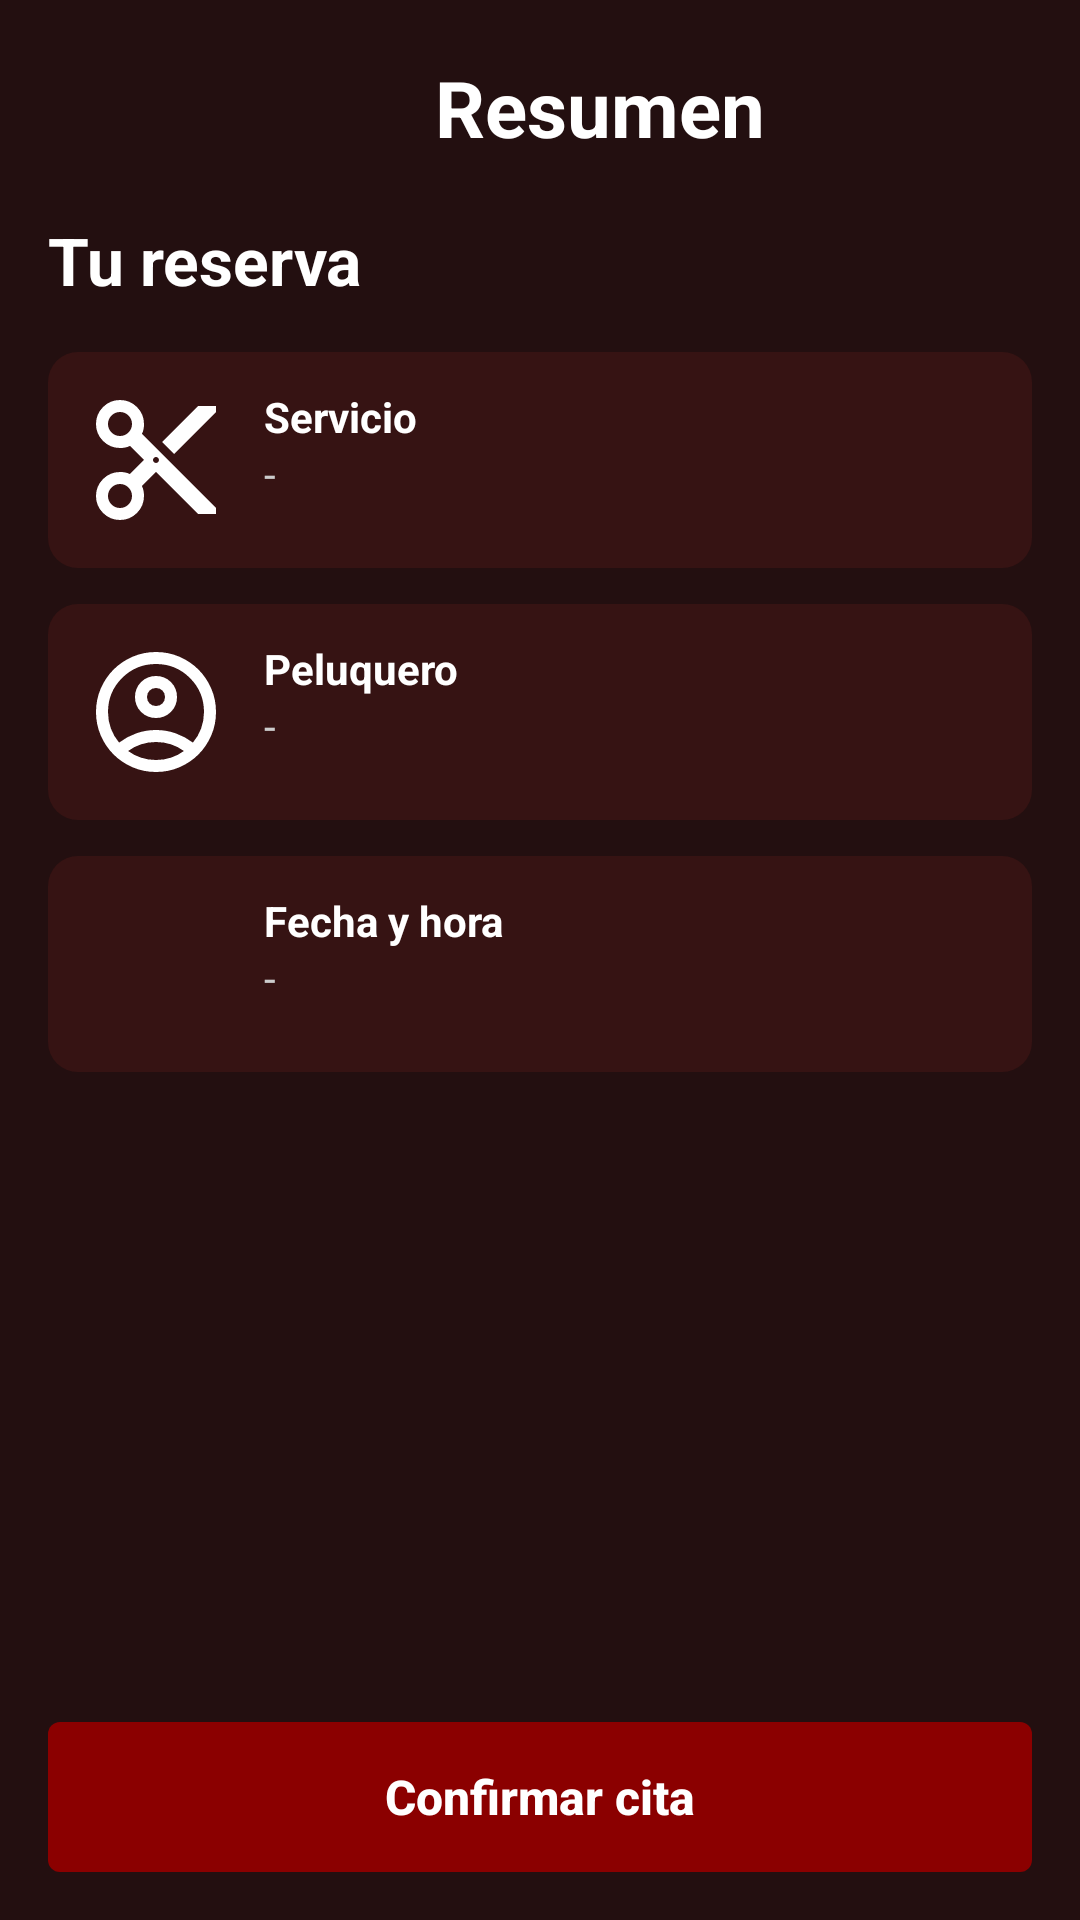

Point at icon controls on the screen. Image size 1080x1920, points as point (x, y).
account: point (156, 712)
scissors: point (156, 460)
